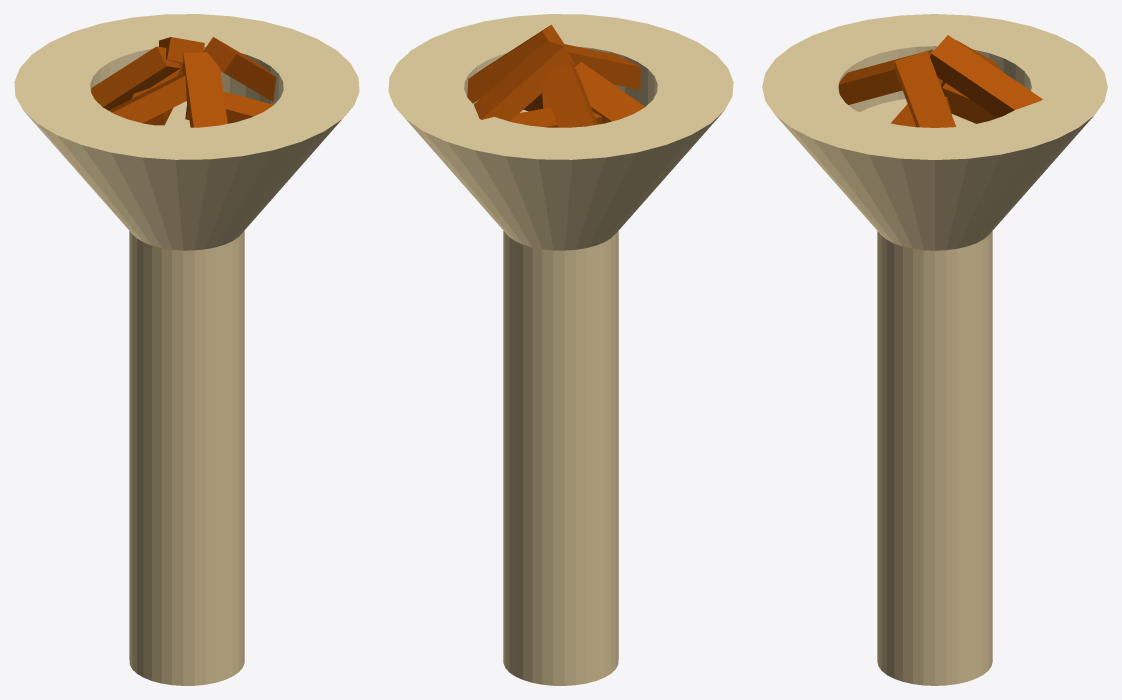
File: cauldron2.fbx
3 renders of one model, left to right at view 1: azimuth 30°, elevation 25°; view 2: azimuth 150°, elevation 25°; view 3: azimuth 270°, elevation 25°, orthographic.
Parts seen in each view (by area): view 1: Cone, Cube.001, Cube.005, Cube, Cube.003, Cube.002, Cube.004; view 2: Cone, Cube.004, Cube.005, Cube.003, Cube, Cube.001, Cube.006; view 3: Cone, Cube.004, Cube, Cube.001, Cube.006.
Boxes of the visible parts, <box> form: Cone: <box>14,14,359,685</box>; Cube.001: <box>182,52,227,127</box>; Cube.005: <box>91,46,180,110</box>; Cube: <box>203,37,276,101</box>; Cube.003: <box>109,73,186,123</box>; Cube.002: <box>185,91,273,123</box>; Cube.004: <box>159,37,204,66</box>; Cone: <box>388,14,733,685</box>; Cube.004: <box>474,40,574,121</box>; Cube.005: <box>541,62,597,127</box>; Cube.003: <box>574,62,644,123</box>; Cube: <box>467,24,563,103</box>; Cube.001: <box>556,43,640,89</box>; Cube.006: <box>510,107,601,127</box>; Cone: <box>762,14,1107,685</box>; Cube.004: <box>930,35,1042,117</box>; Cube: <box>895,50,956,127</box>; Cube.001: <box>839,49,933,104</box>; Cube.006: <box>942,83,997,123</box>.
Bounding box in the file's own units: 600 × 1191 × 600.
